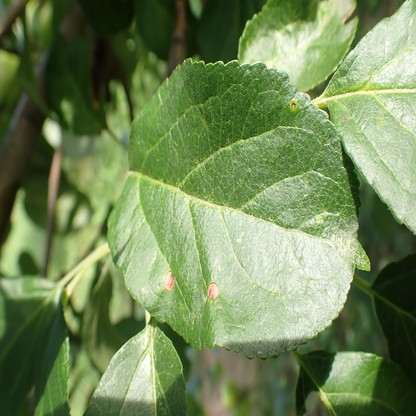frogeye_leaf_spot: (163, 269, 175, 290), (207, 281, 219, 301)
